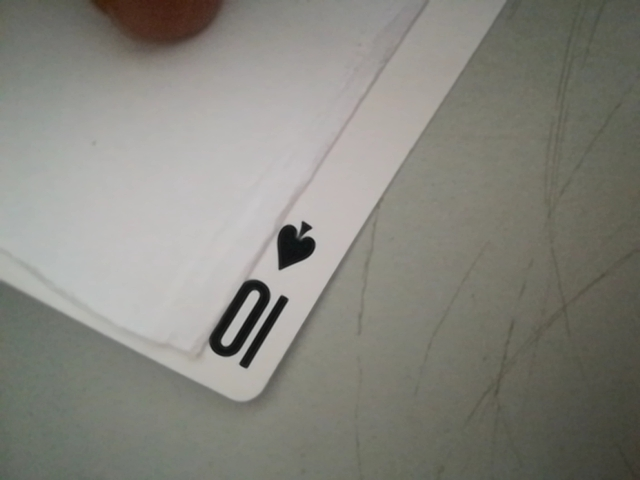ht 10: (196, 208, 332, 389)
